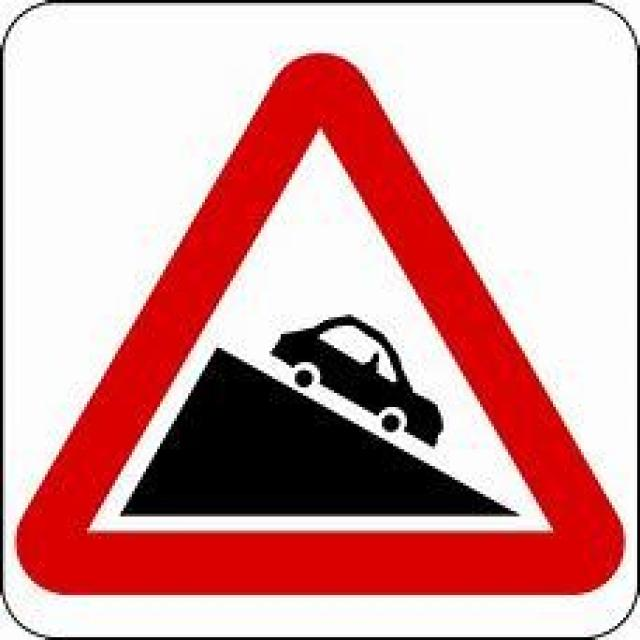STEEP_DESCENT: (5, 45, 640, 598)
